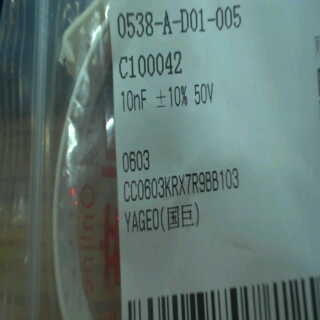10nF: (116, 87, 152, 116)
